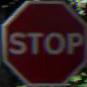Stop: (10, 2, 83, 79)
